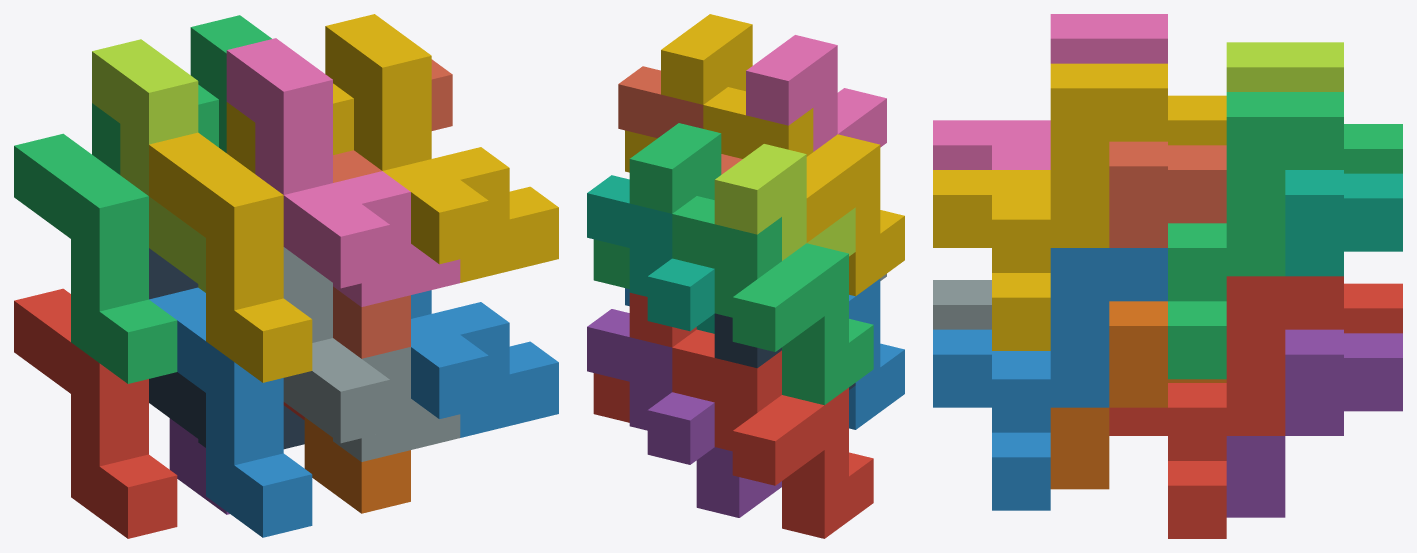
Rendered from tiling.obj.
3 views of the same model, side by side, from view 1: azimuth 30°, elevation 25°; view 2: azimuth 150°, elevation 25°; view 3: azimuth 270°, elevation 25° (orthographic). The views are drawn at different scales.
Parts seen in each view (by area): view 1: copy_2_domain_8, copy_2_domain_4, copy_1_domain_4, copy_1_domain_3, copy_1_domain_1, copy_1_domain_2, copy_2_domain_2, copy_2_domain_6, copy_2_domain_3, copy_1_domain_8, copy_1_domain_6, copy_2_domain_1 (+2 smaller); view 2: copy_1_domain_3, copy_1_domain_1, copy_1_domain_4, copy_1_domain_5, copy_1_domain_7, copy_2_domain_4, copy_2_domain_3, copy_2_domain_7, copy_2_domain_8, copy_1_domain_2, copy_1_domain_8, copy_2_domain_5 (+1 smaller); view 3: copy_2_domain_8, copy_2_domain_6, copy_2_domain_7, copy_2_domain_5, copy_1_domain_5, copy_2_domain_4, copy_1_domain_6, copy_1_domain_7, copy_1_domain_8, copy_2_domain_3, copy_1_domain_1, copy_1_domain_4 (+2 smaller).
Boxes of the visible parts, x1,y1,x2,y2 form: copy_2_domain_8: [325, 14, 558, 282]; copy_2_domain_4: [226, 38, 460, 306]; copy_1_domain_4: [149, 83, 353, 382]; copy_1_domain_3: [14, 84, 218, 383]; copy_1_domain_1: [14, 288, 177, 538]; copy_1_domain_2: [149, 287, 312, 537]; copy_2_domain_2: [283, 247, 460, 461]; copy_2_domain_6: [411, 290, 558, 437]; copy_2_domain_3: [92, 39, 205, 292]; copy_1_domain_8: [333, 59, 452, 358]; copy_1_domain_6: [304, 417, 410, 513]; copy_2_domain_1: [149, 248, 304, 449]; copy_1_domain_3: [672, 196, 873, 405]; copy_1_domain_1: [672, 329, 873, 538]; copy_1_domain_4: [703, 87, 904, 296]; copy_1_domain_5: [587, 309, 781, 517]; copy_1_domain_7: [587, 175, 714, 333]; copy_2_domain_4: [746, 35, 886, 151]; copy_2_domain_3: [714, 144, 855, 260]; copy_2_domain_7: [593, 123, 721, 288]; copy_2_domain_8: [625, 14, 752, 172]; copy_1_domain_2: [849, 278, 904, 429]; copy_1_domain_8: [618, 66, 742, 174]; copy_2_domain_5: [593, 292, 696, 422]; copy_2_domain_8: [933, 63, 1167, 350]; copy_2_domain_6: [933, 248, 1167, 510]; copy_2_domain_7: [1168, 92, 1343, 379]; copy_2_domain_5: [1109, 276, 1343, 538]; copy_1_domain_5: [1226, 329, 1402, 517]; copy_2_domain_4: [933, 14, 1167, 169]; copy_1_domain_6: [1050, 301, 1226, 489]; copy_1_domain_7: [1285, 170, 1402, 276]; copy_1_domain_8: [1109, 141, 1226, 247]; copy_2_domain_3: [1226, 42, 1343, 91]; copy_1_domain_1: [1344, 283, 1402, 333]; copy_1_domain_4: [1168, 95, 1226, 145].
Size of the model in its own units: 7 by 9 by 8.
